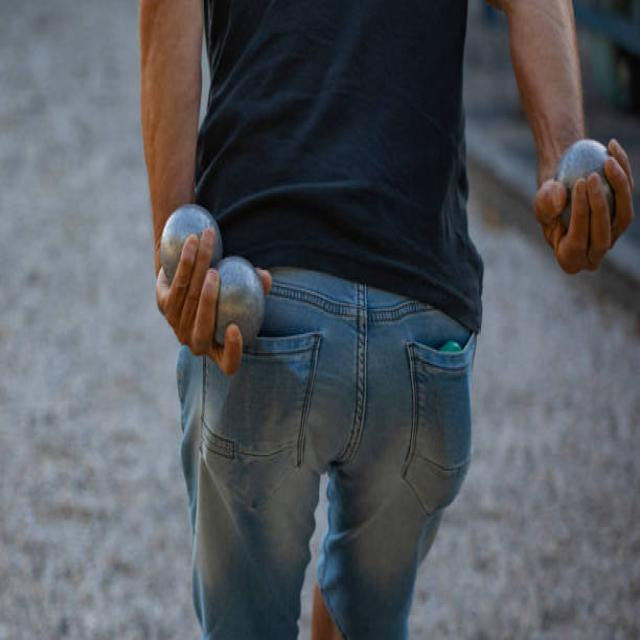petanque: (203, 258, 270, 355), (550, 139, 616, 232), (157, 202, 228, 285)
